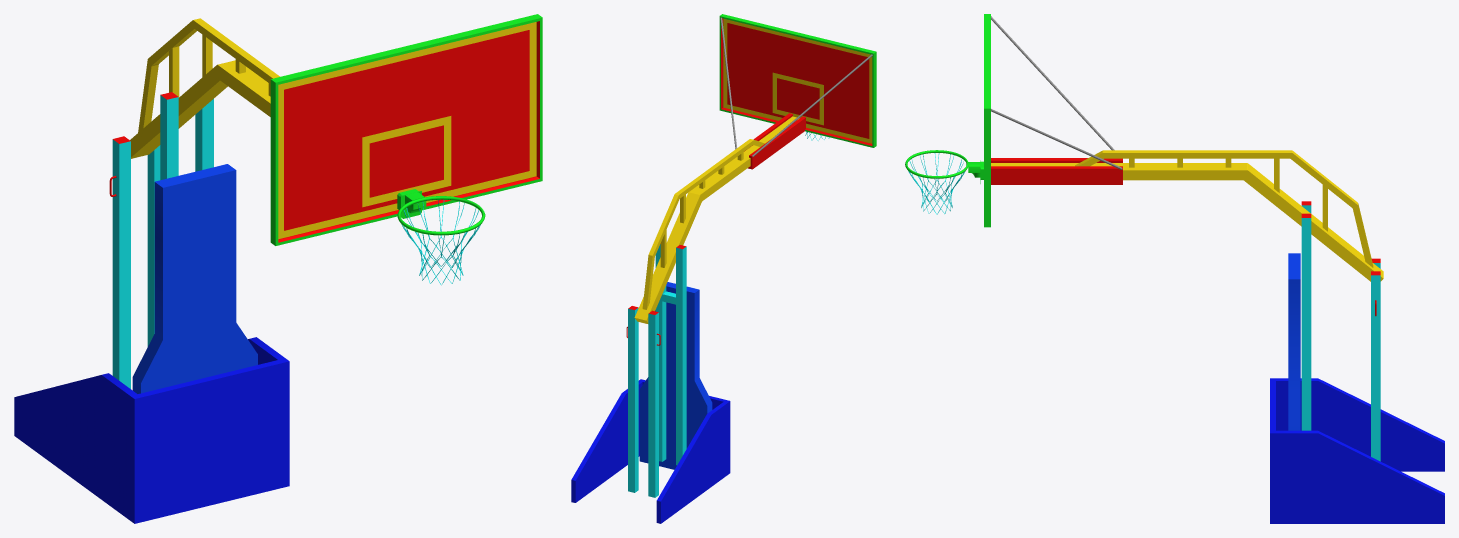
Rendered from BasketballCourt_2.FBX.
3 views of the same model, side by side, from view 1: azimuth 30°, elevation 25°; view 2: azimuth 150°, elevation 25°; view 3: azimuth 270°, elevation 25° (orthographic). The views are drawn at different scales.
Visible parts, largest first — view 1: Canasta, Cristal, Aro, Cuerdas; view 2: Canasta, Cristal; view 3: Canasta, Cuerdas, Aro.
Boxes of the visible parts, x1,y1,x2,y2 form: Canasta: (14, 14, 542, 523); Cristal: (278, 22, 536, 239); Aro: (397, 189, 485, 235); Cuerdas: (401, 200, 480, 285); Canasta: (571, 14, 876, 523); Cristal: (723, 18, 872, 143); Canasta: (984, 14, 1444, 523); Cuerdas: (908, 153, 965, 214); Aro: (905, 150, 983, 183).
Size of what is drawn, in the model's own units: 262 by 561 by 630.
